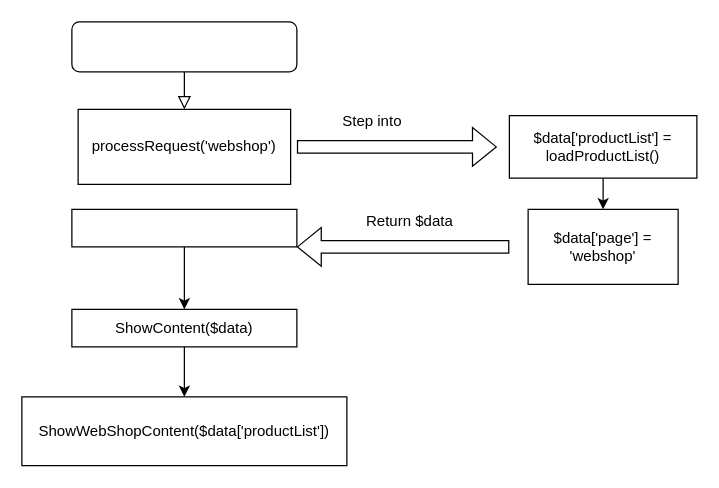
The diagram is 719 pixels wide and 488 high, and some of its shapes have lost their labels. The box of each missing label's shape, as (x1, y1, x2, y2) in pixels:
GET page='webshop': (71, 21, 297, 72)
showResponsePage($data): (71, 208, 297, 247)
